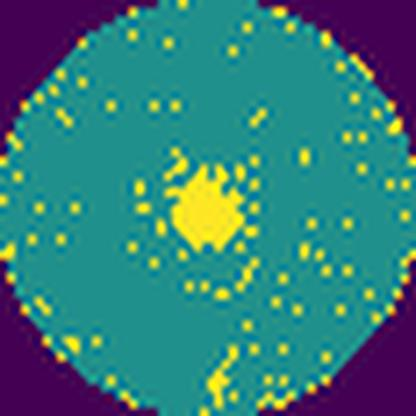Center: (171, 165, 243, 253)
